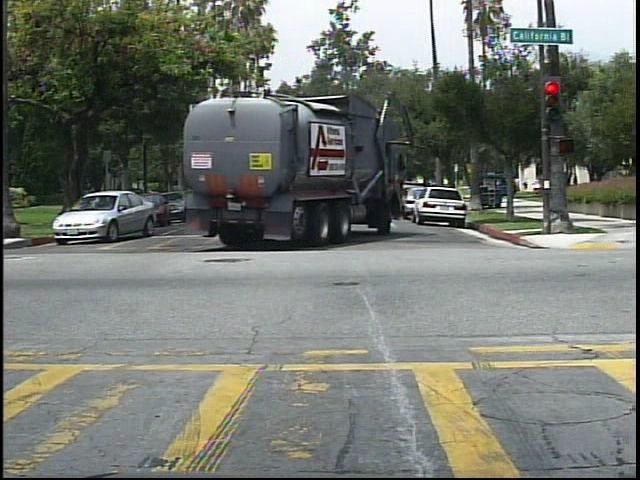person: (566, 167, 584, 198), (521, 174, 534, 193)
